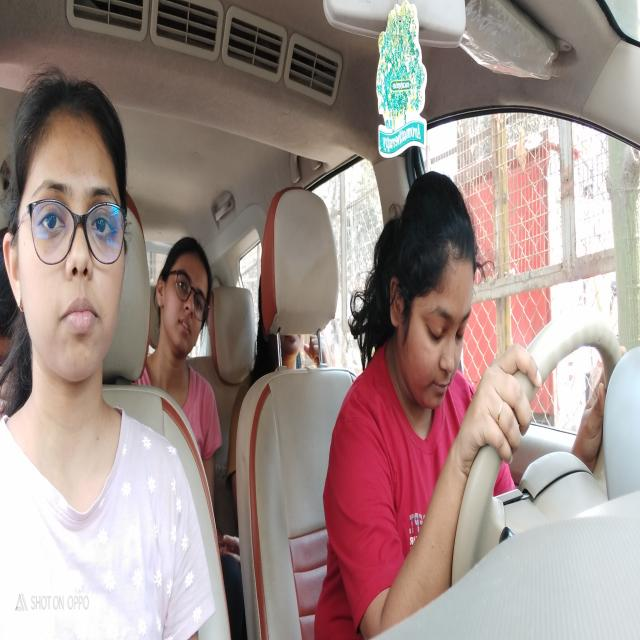drowsy: (394, 168, 476, 429)
person: (2, 44, 131, 409), (153, 213, 217, 388)
